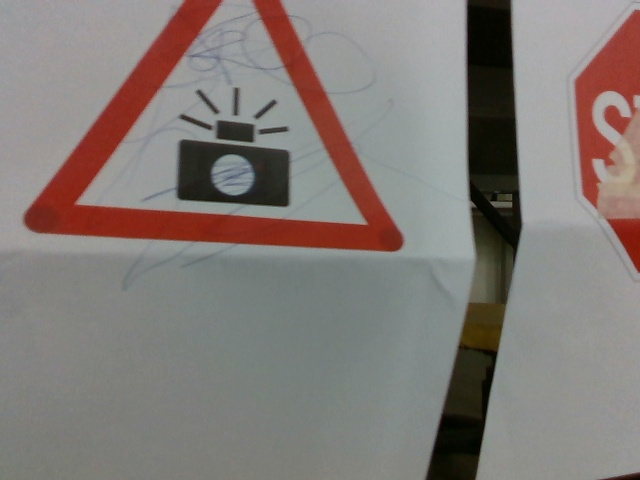camera: (33, 7, 406, 261)
